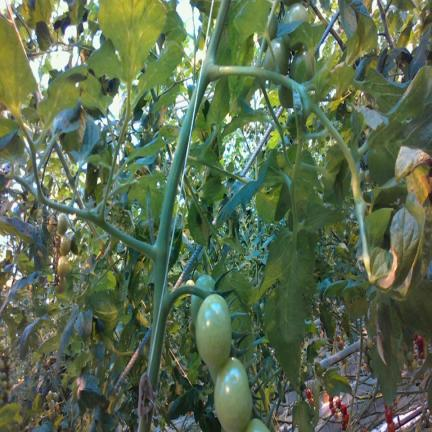6kp_peduncle: (151, 262, 211, 347)
6kp_petiole: (189, 24, 251, 111), (118, 212, 173, 310)
MainStem: (147, 0, 232, 389)
tomato: (214, 358, 252, 431), (195, 294, 231, 369), (191, 274, 215, 324), (264, 38, 289, 74), (257, 14, 278, 51), (291, 49, 313, 82), (283, 3, 309, 23), (245, 418, 269, 431), (57, 255, 68, 277), (57, 214, 68, 234), (60, 234, 71, 254), (55, 278, 66, 294), (208, 367, 218, 383), (47, 216, 56, 233), (385, 407, 392, 423), (406, 350, 414, 362), (410, 359, 418, 371), (366, 338, 373, 349), (387, 422, 395, 431), (0, 360, 5, 371), (52, 392, 58, 401), (0, 373, 7, 380), (2, 381, 8, 389)
